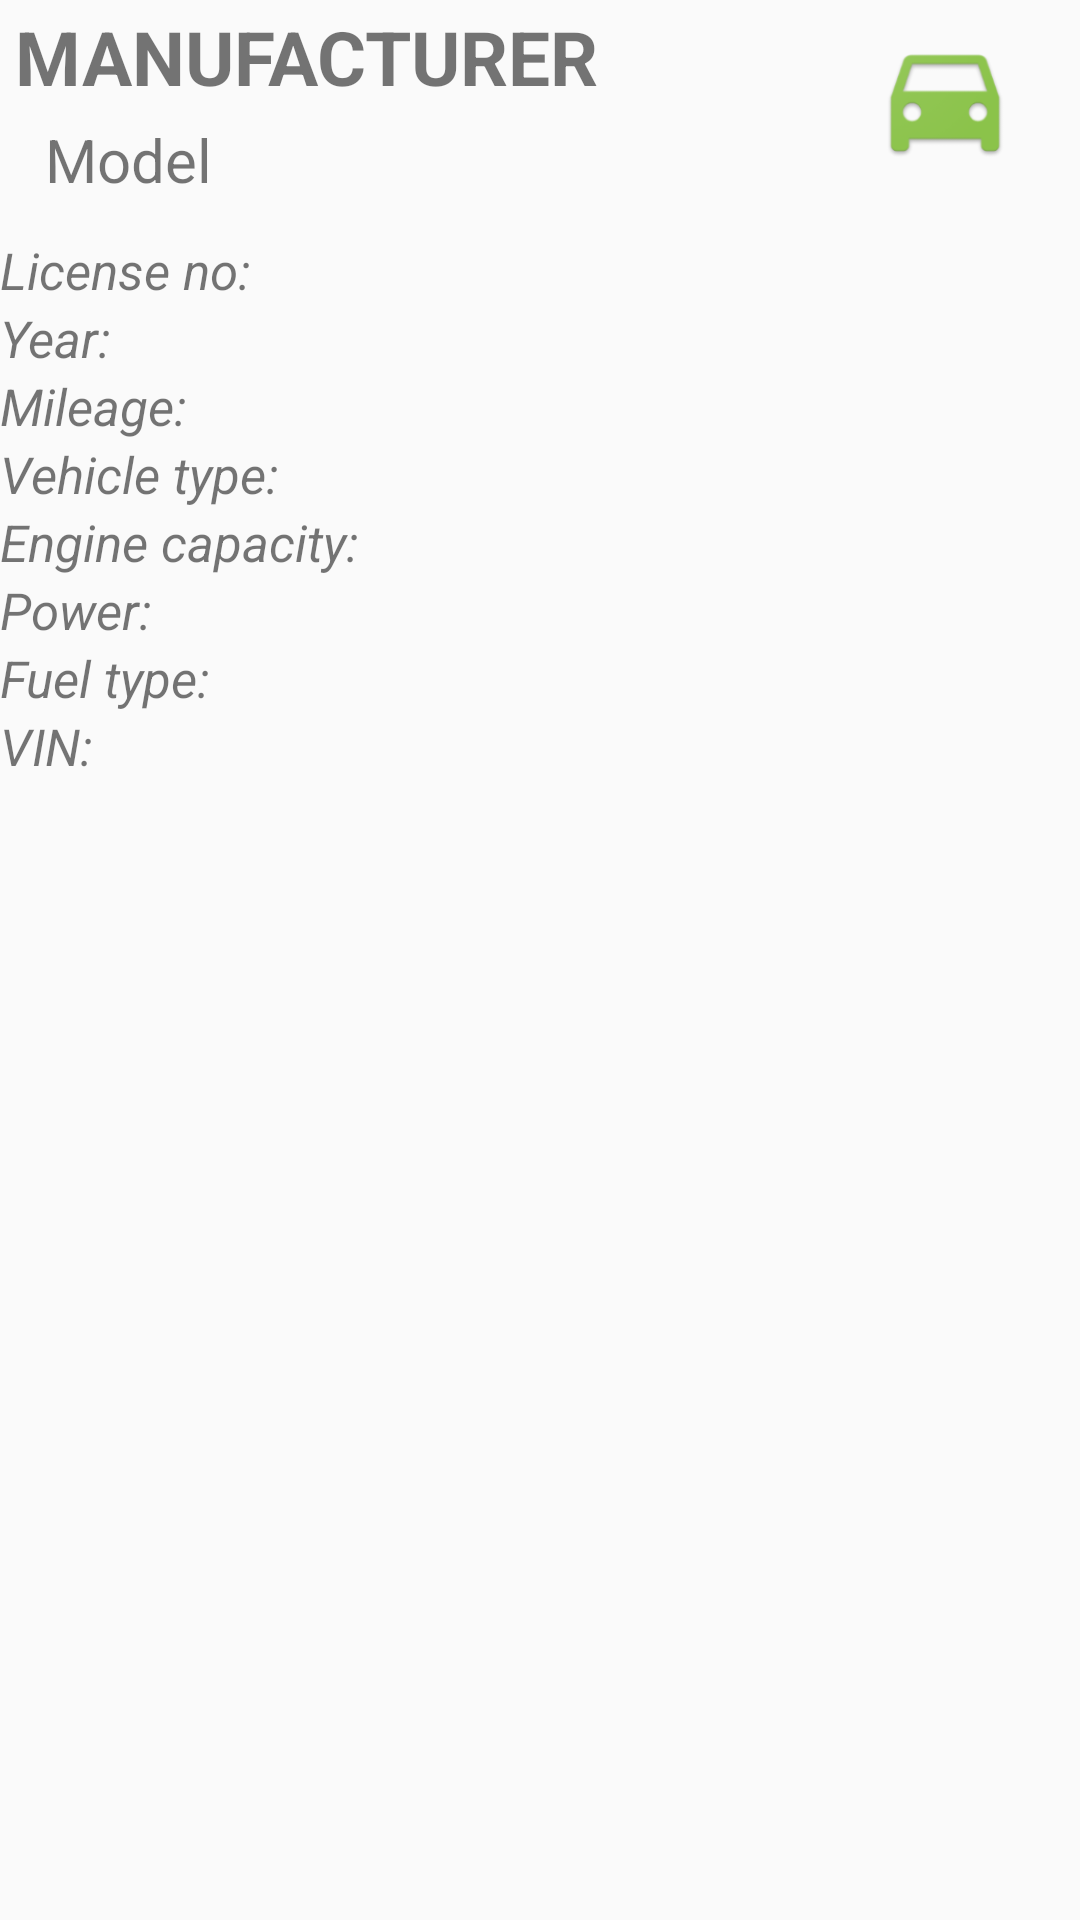

Named icons in this screenshot (1080 x 1920) and their centers, (x,y):
car: (945,104)
